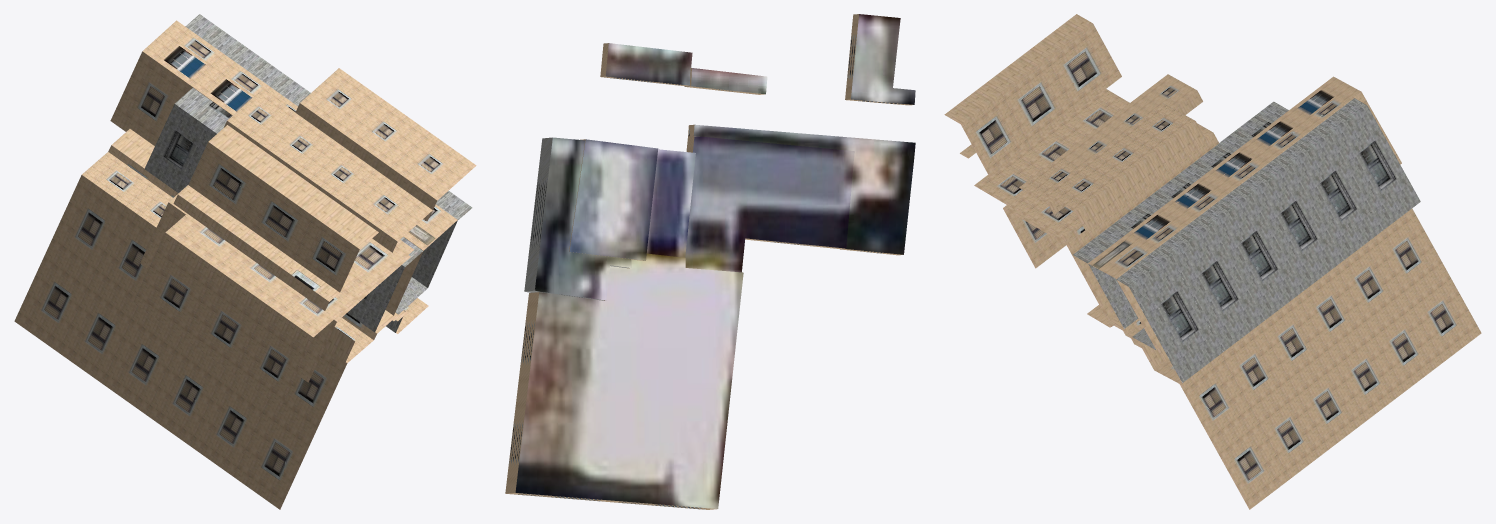
The picture shows the model from 3 angles, left to right: view 1: azimuth 30°, elevation 25°; view 2: azimuth 150°, elevation 25°; view 3: azimuth 270°, elevation 25°; orthographic projection. The views are drawn at different scales.
Bounding box in the file's own units: 21.58 × 27.22 × 33.42.
Materials: 34 (34 with a texture image).
